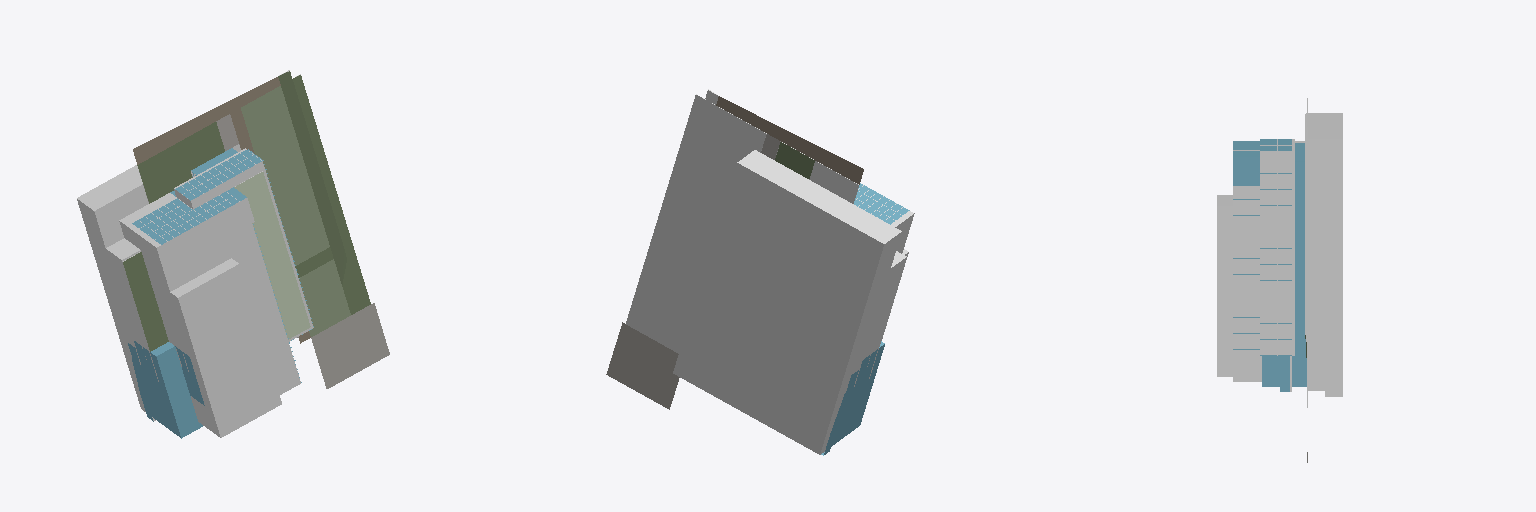
The model's file is opt1-99.obj.
3 views of the same model, side by side, from view 1: azimuth 30°, elevation 25°; view 2: azimuth 150°, elevation 25°; view 3: azimuth 270°, elevation 25° (orthographic).
Bounding box in the file's own units: 347 × 369 × 128.